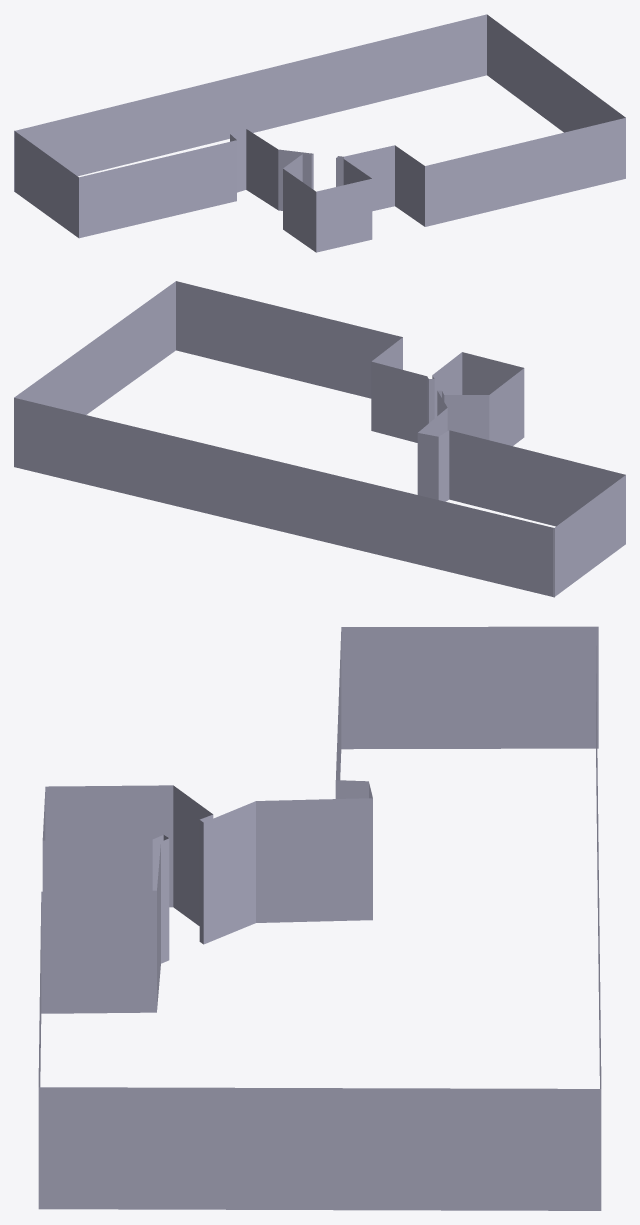
File: test_floor1.dae
The picture shows the model from 3 angles, top to bottom: view 1: azimuth 30°, elevation 25°; view 2: azimuth 150°, elevation 25°; view 3: azimuth 270°, elevation 25°; orthographic projection. The views are drawn at different scales.
Parts seen in each view (by area): view 1: node0; view 2: node0; view 3: node0.
Part boxes in pixels (bbox=[...]): node0: bbox=[14, 14, 625, 252]; node0: bbox=[14, 281, 625, 597]; node0: bbox=[38, 626, 601, 1210].
Bounding box in the file's own units: 0.0163 × 0.00836 × 0.002.
